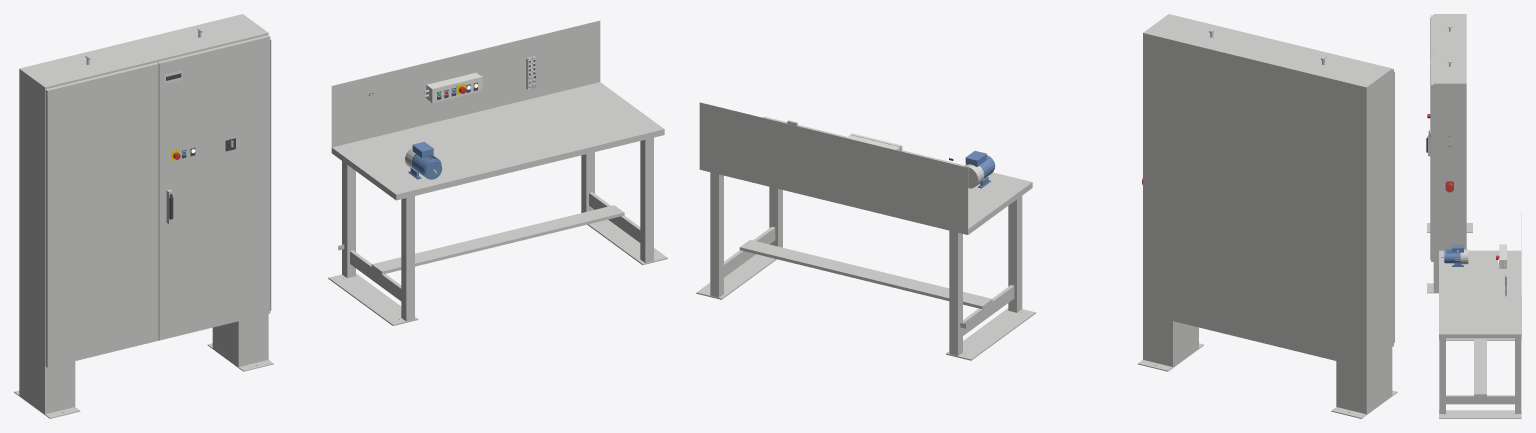
File: lab-electrical-campus.glb
3 views of the same model, side by side, from view 1: azimuth 30°, elevation 25°; view 2: azimuth 150°, elevation 25°; view 3: azimuth 270°, elevation 25° (orthographic). The views are drawn at different scales.
Visible parts, largest first — view 1: cell-1.panel-1.enc-1.door-l, cell-1.machine-1.bench-1.body, cell-1.panel-1.enc-1.door-r, cell-1.panel-1.enc-1.body, cell-1.machine-1.bench-1.backboard, cell-1.machine-1.m1.body, cell-1.machine-1.pbs-1.lid-1; view 2: cell-1.panel-1.enc-1.body, cell-1.machine-1.bench-1.body, cell-1.machine-1.bench-1.backboard, cell-1.machine-1.m1.body; view 3: cell-1.machine-1.bench-1.body, cell-1.panel-1.enc-1.body, cell-1.panel-1.enc-1.door-r, cell-1.machine-1.m1.body, cell-1.panel-1.enc-1.hinge-r, cell-1.machine-1.pbs-1.body, cell-1.machine-1.bench-1.backboard, cell-1.panel-1.enc-1.door-l.
Boxes of the visible parts, x1,y1,x2,y2 form: cell-1.panel-1.enc-1.door-l: (45, 62, 158, 367); cell-1.machine-1.bench-1.body: (328, 82, 667, 325); cell-1.panel-1.enc-1.door-r: (157, 35, 270, 340); cell-1.panel-1.enc-1.body: (14, 14, 273, 418); cell-1.machine-1.bench-1.backboard: (331, 20, 600, 147); cell-1.machine-1.m1.body: (405, 141, 442, 179); cell-1.machine-1.pbs-1.lid-1: (430, 75, 482, 103); cell-1.panel-1.enc-1.body: (1137, 14, 1397, 418); cell-1.machine-1.bench-1.body: (696, 116, 1035, 360); cell-1.machine-1.bench-1.backboard: (699, 102, 968, 229); cell-1.machine-1.m1.body: (964, 151, 995, 188); cell-1.machine-1.bench-1.body: (1439, 250, 1521, 418); cell-1.panel-1.enc-1.body: (1427, 14, 1472, 293); cell-1.panel-1.enc-1.door-r: (1430, 50, 1433, 261); cell-1.machine-1.m1.body: (1444, 244, 1468, 266); cell-1.panel-1.enc-1.hinge-r: (1430, 86, 1430, 259); cell-1.machine-1.pbs-1.body: (1501, 244, 1506, 268); cell-1.machine-1.bench-1.backboard: (1521, 212, 1521, 333); cell-1.panel-1.enc-1.door-l: (1431, 15, 1433, 50).
Size of what is drawn, in the model's own units: 4.27 by 2.18 by 0.8798.
